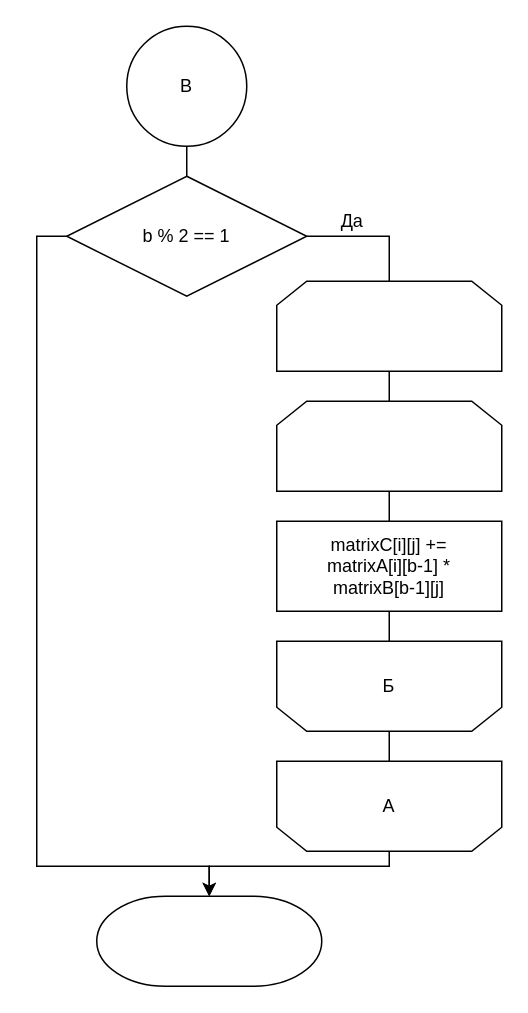
This 528x1013 diagram has some shape labels left out. Each missing label, with the centre of its shape:
"А i < n" goes at point (388, 325).
"Б j < p" goes at point (388, 445).
"Конец" goes at point (208, 940).
